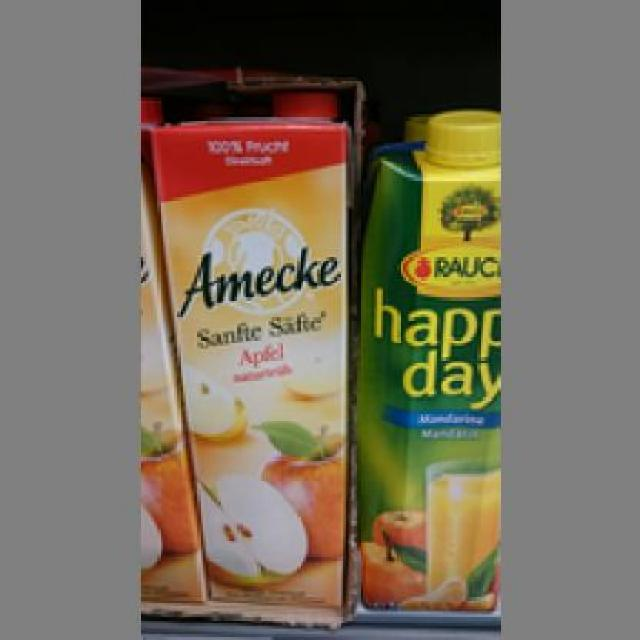Juice: (148, 91, 344, 600), (354, 108, 497, 614)
